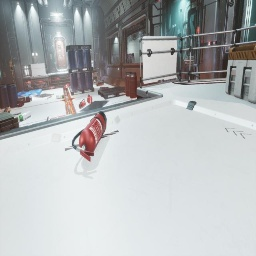0: (18, 111, 31, 122), (56, 94, 66, 99)
EmergencyPhone ,: (3, 71, 6, 77), (49, 54, 52, 59)
FireExtinguisher ]: (72, 111, 107, 162), (79, 99, 86, 109), (49, 86, 55, 90), (29, 74, 32, 77)
FirstAidBox ,: (17, 99, 24, 107), (87, 94, 92, 103), (64, 83, 69, 89)
NitrogenTank ,: (47, 113, 72, 121), (18, 96, 32, 103), (26, 85, 34, 91), (96, 81, 104, 86), (100, 87, 109, 90), (93, 80, 97, 84)
